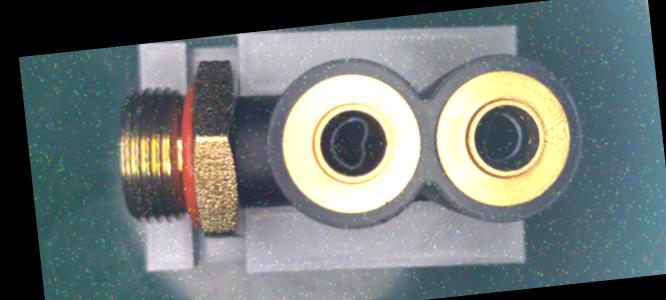off-centered: (321, 115, 380, 173), (474, 109, 532, 165)
